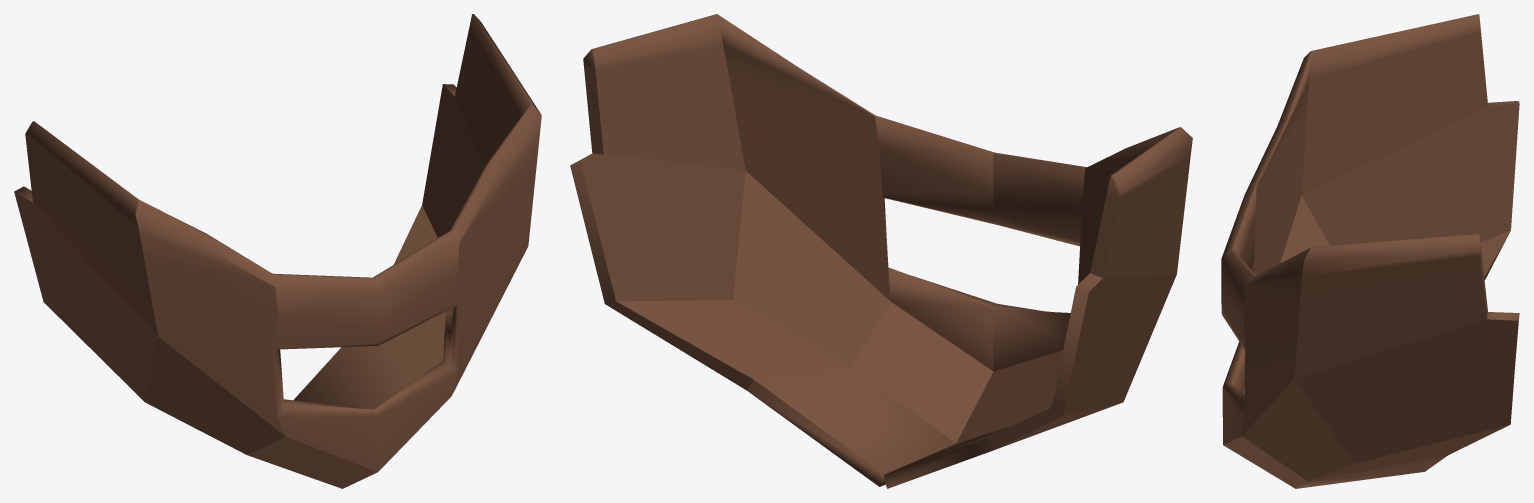
File: Bart.fbx
The picture shows the model from 3 angles, left to right: view 1: azimuth 30°, elevation 25°; view 2: azimuth 150°, elevation 25°; view 3: azimuth 270°, elevation 25°; orthographic projection. The views are drawn at different scales.
Visible parts, largest first — view 1: Head.001; view 2: Head.001; view 3: Head.001.
Part boxes in pixels (x1=…): Head.001: x1=14, y1=14, x2=541, y2=488; Head.001: x1=570, y1=14, x2=1192, y2=488; Head.001: x1=1221, y1=14, x2=1519, y2=488.
Size of the model in its own units: 0.1828 by 0.1362 by 0.1009.
